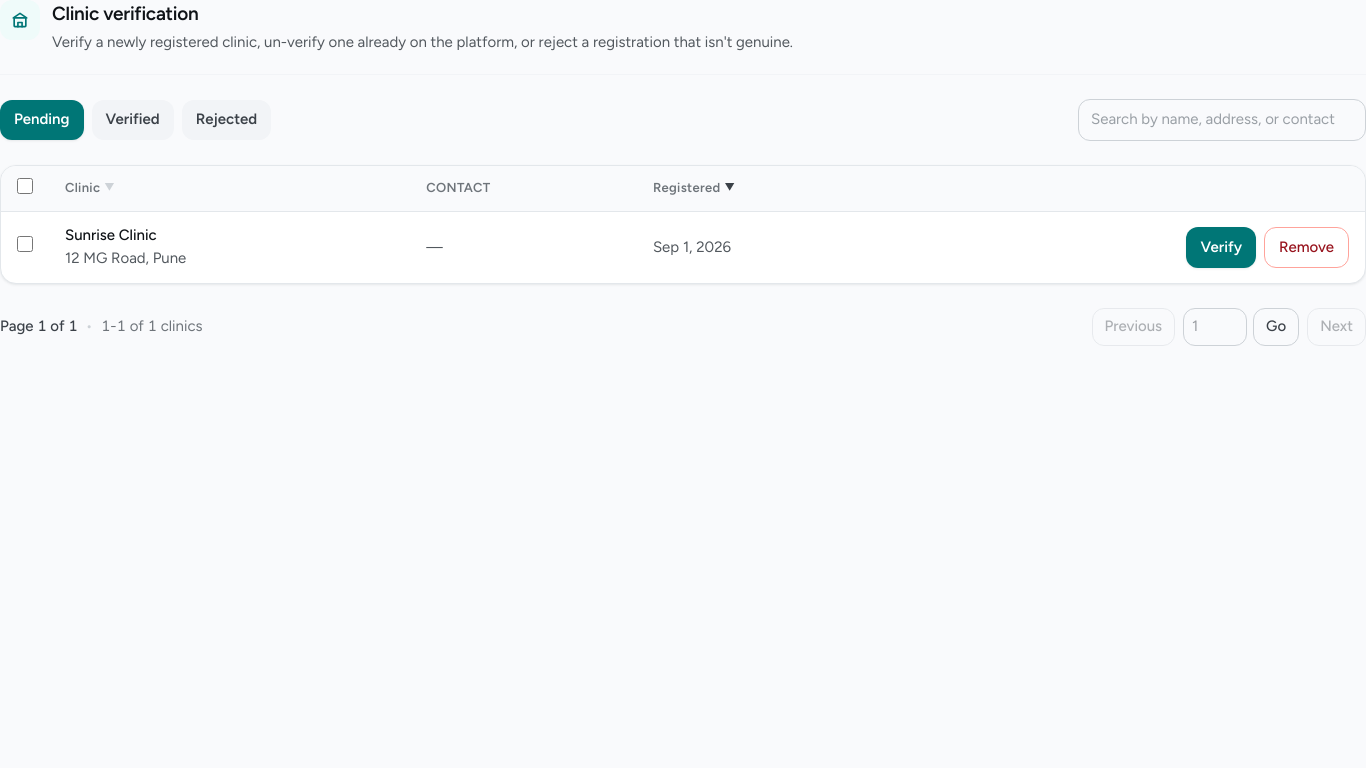
Test: PendingClinicsList › single Remove opens the reject modal, requires a reason, and rejects on submit
Click the button "Remove". click: {"x": 1306, "y": 247}
box: [1264, 227, 1349, 268]
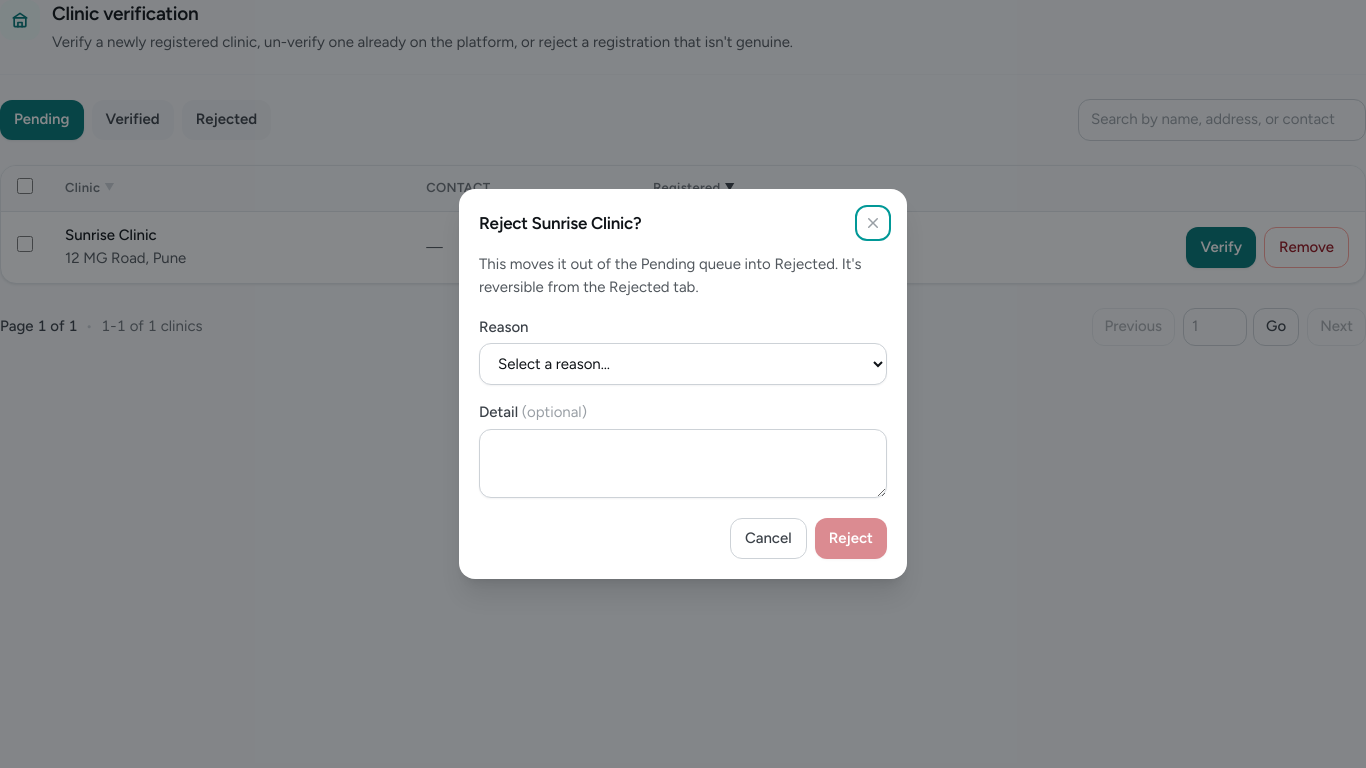
Result: the button "Reject" is disabled at [815, 518, 887, 560]
Select "Suspected fraud" in the dropdown labelled "Reason". click: {"x": 683, "y": 364}
box: [479, 343, 887, 385]
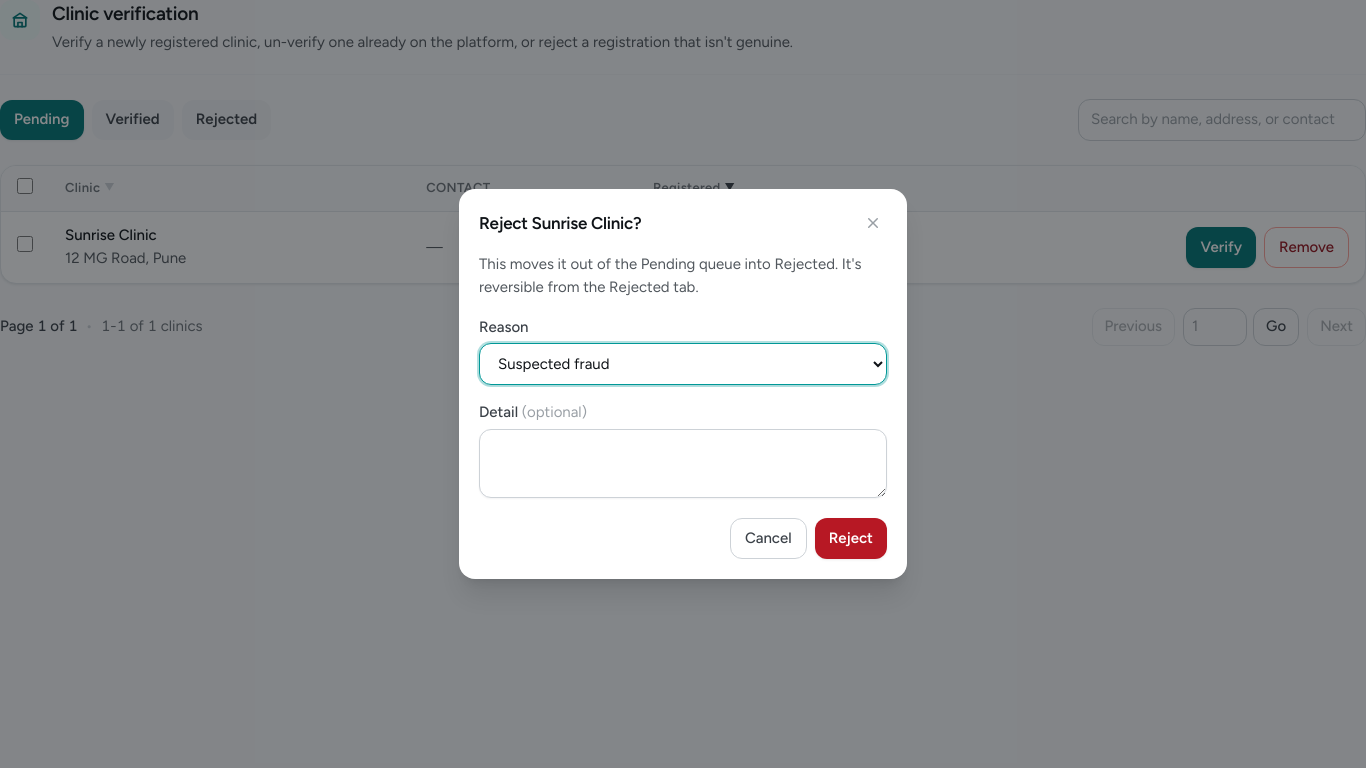
Result: the button "Reject" is enabled
Click the button "Reject". click: {"x": 851, "y": 539}
box: [815, 518, 887, 560]
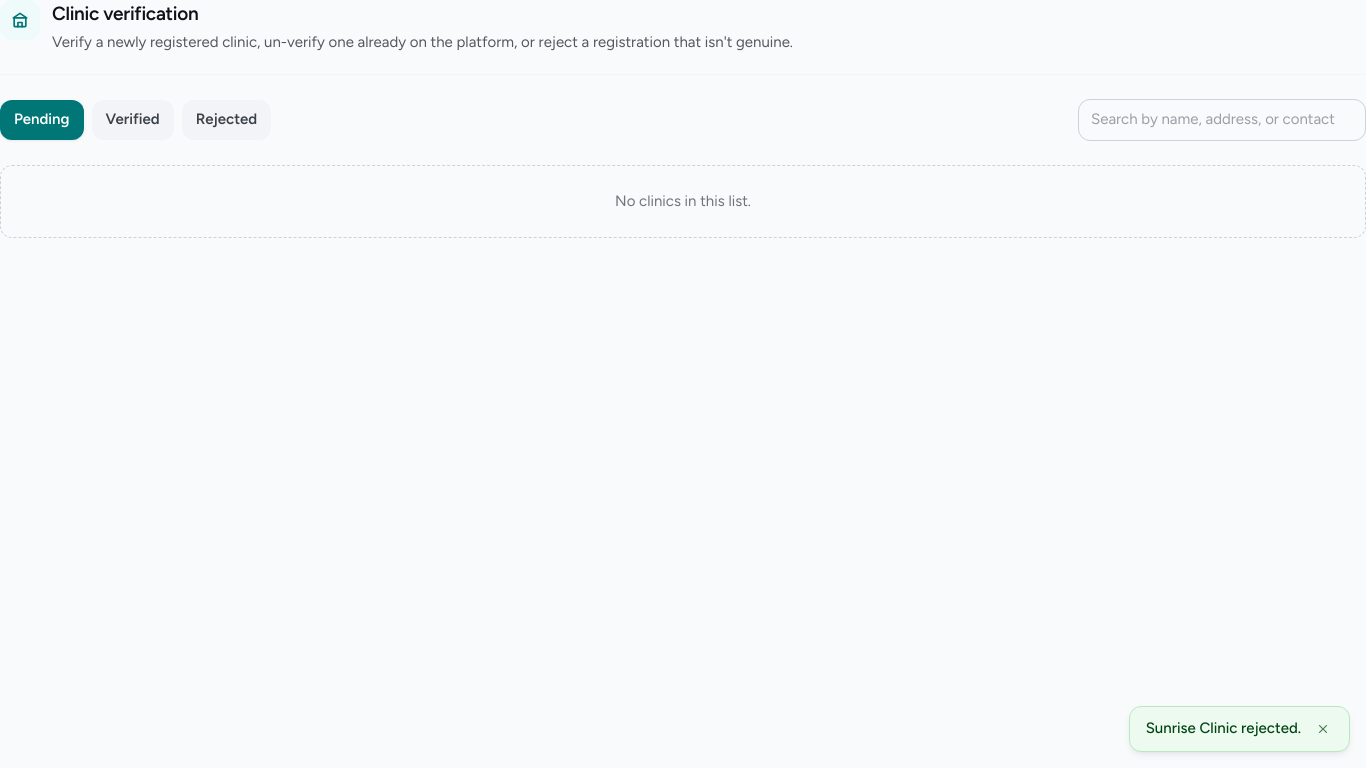
Result: the dialog is gone
